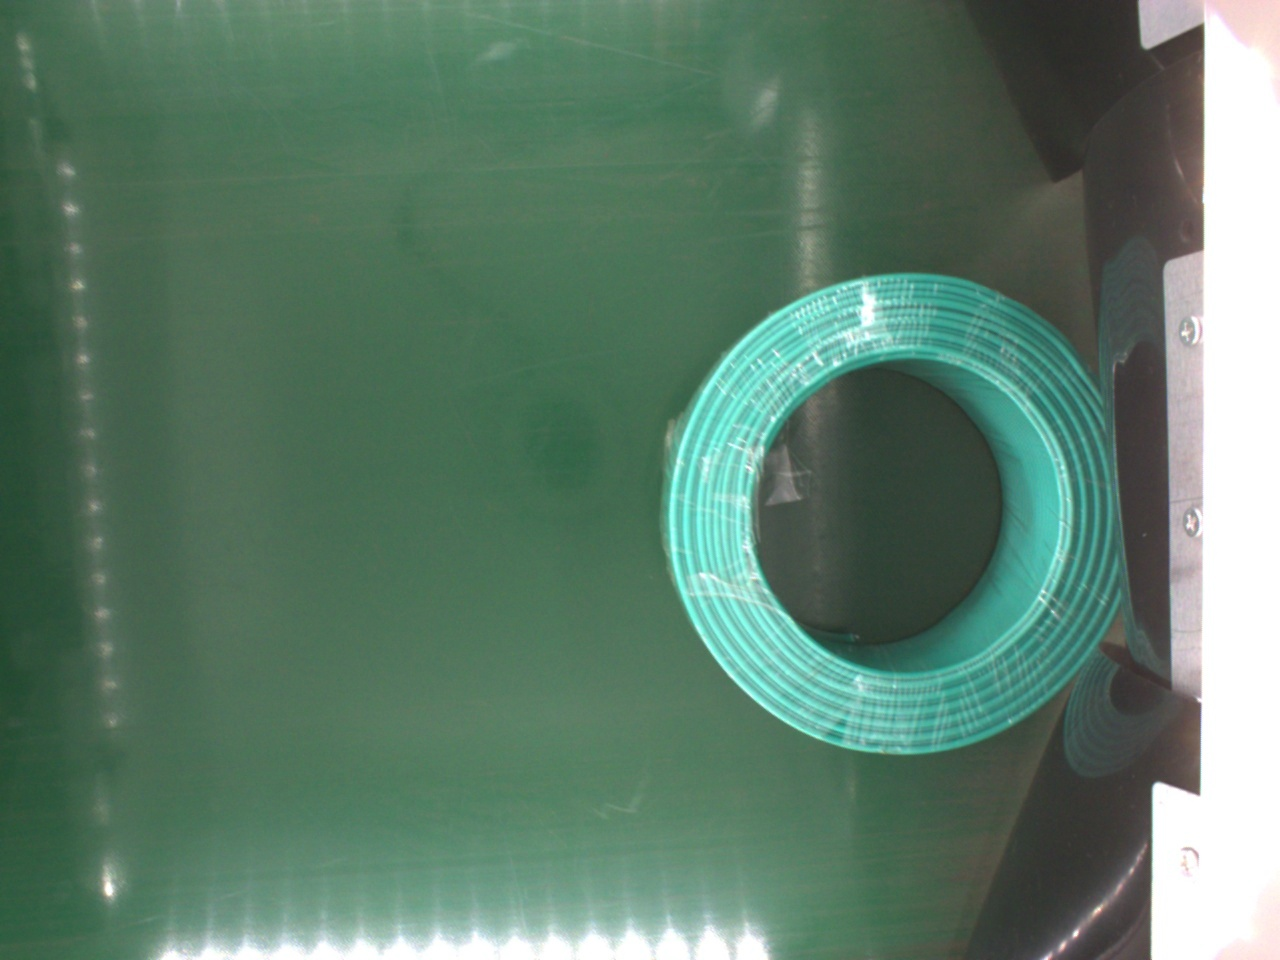green: (652, 270, 1131, 760)
